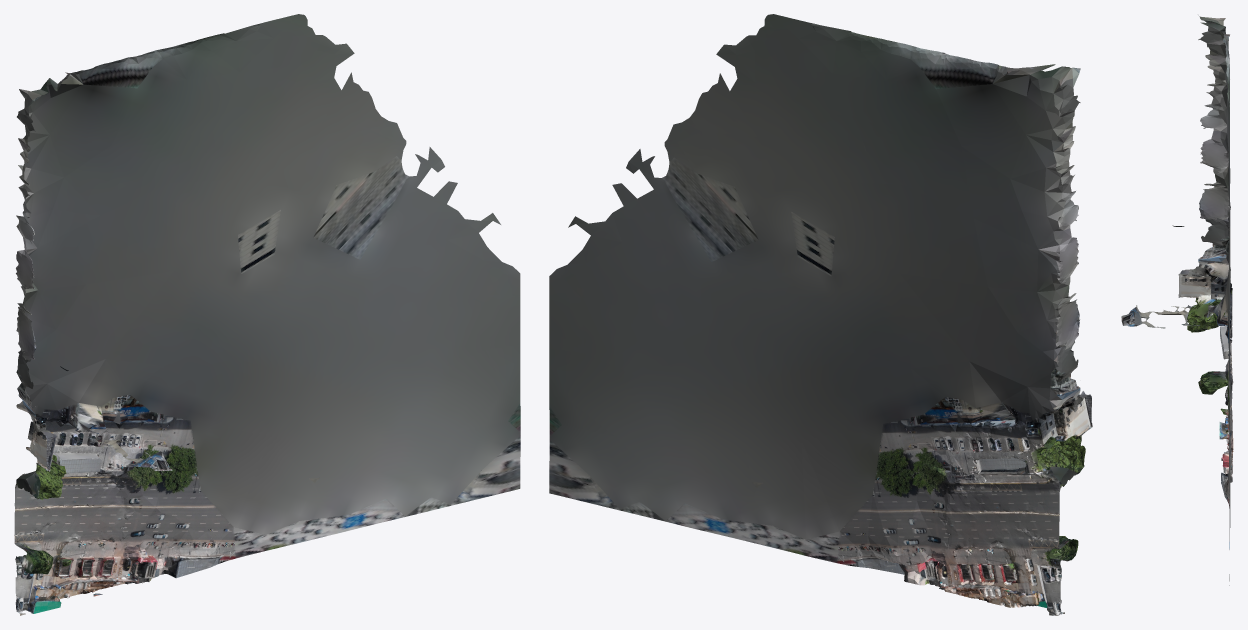
Rendered from Tile_+003_+003.obj.
3 views of the same model, side by side, from view 1: azimuth 30°, elevation 25°; view 2: azimuth 150°, elevation 25°; view 3: azimuth 270°, elevation 25° (orthographic). The views are drawn at different scales.
Size of the model in its own units: 200 by 200 by 49.72.
Materials: 1 (1 with a texture image).
